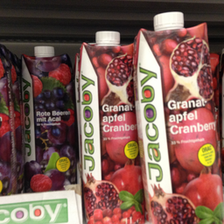juice: (133, 12, 223, 224), (78, 30, 149, 224), (20, 45, 76, 191)
